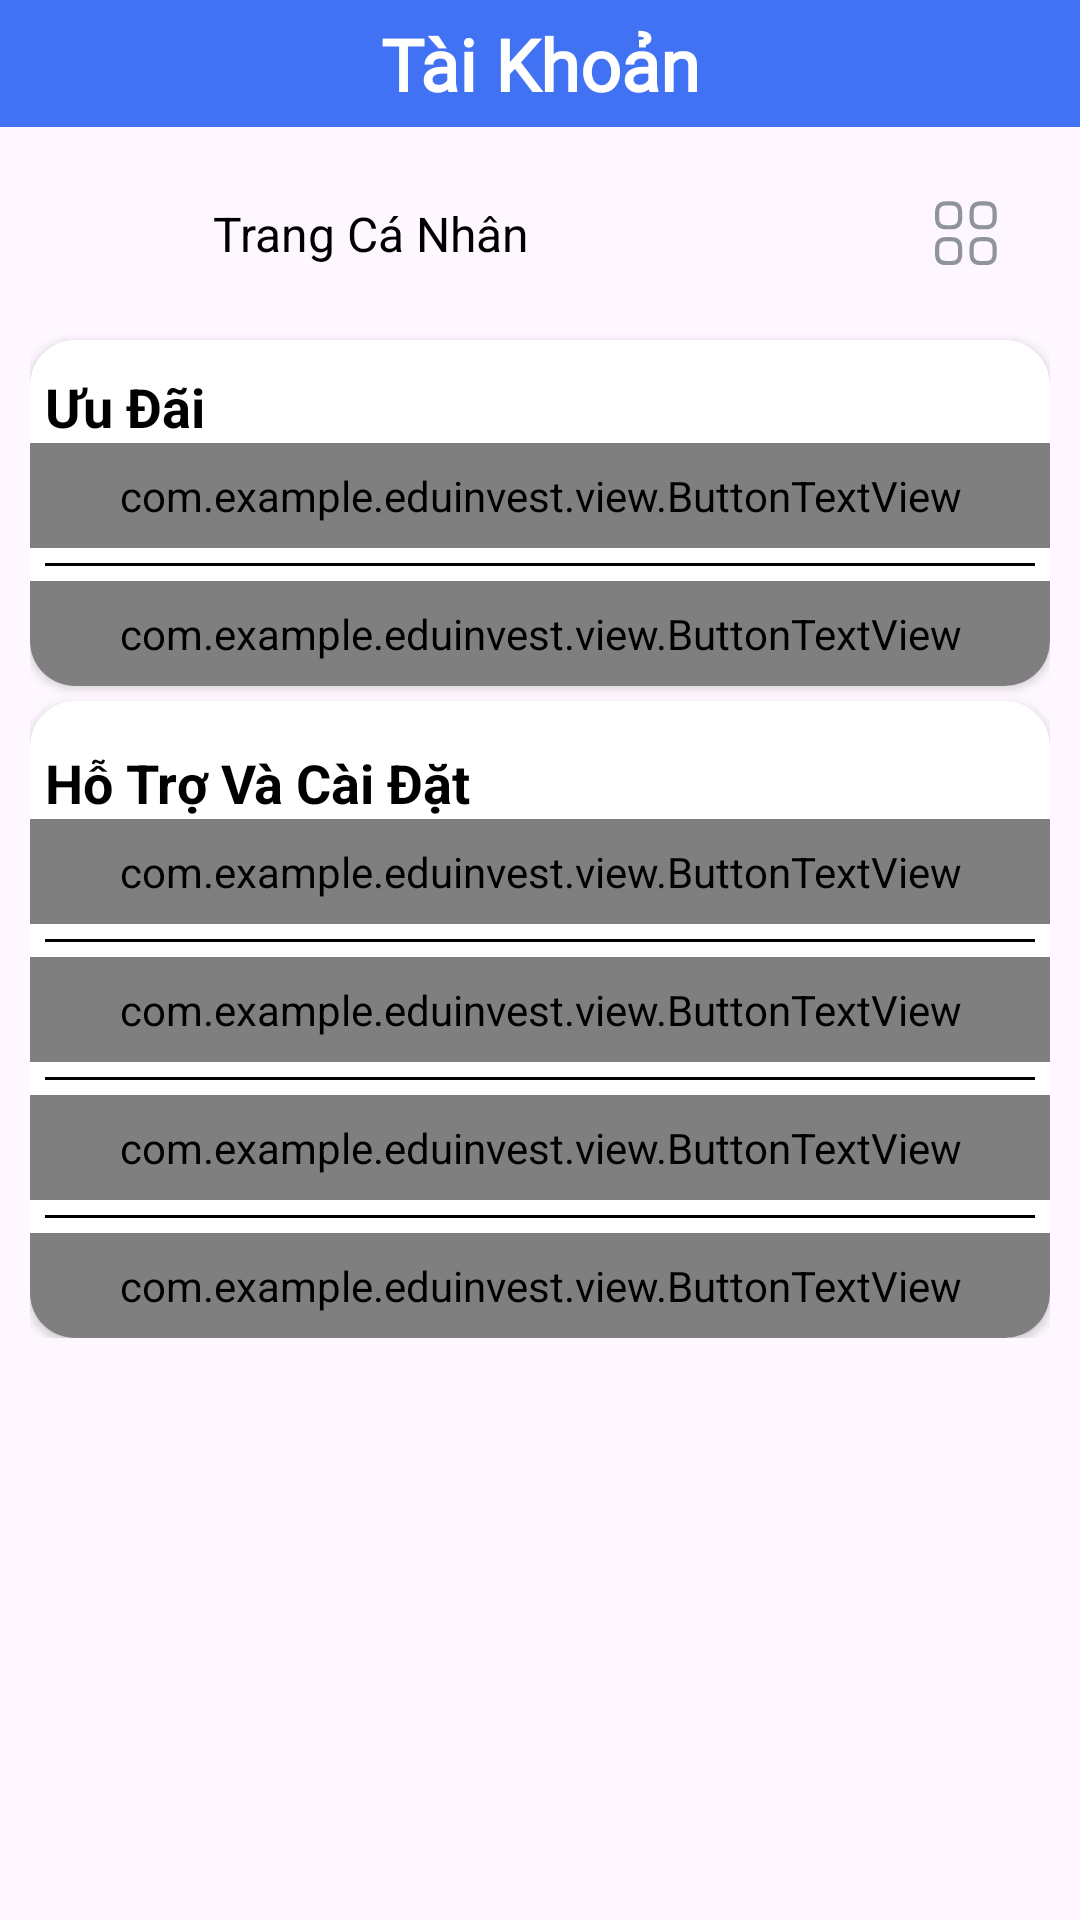

Screen size 1080×1920. Icon name, then its box in pixels as detection(x1, y1, x2, y2):
more: detection(935, 201, 997, 265)
